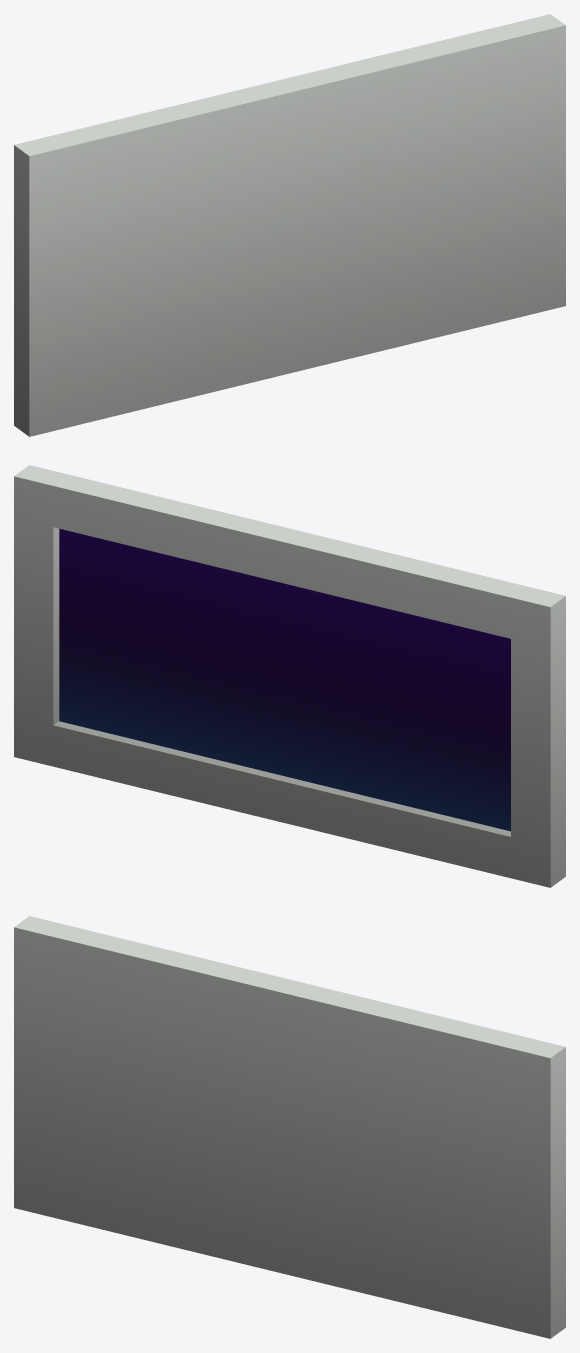
The model's file is Frame_closed.fbx.
The picture shows the model from 3 angles, top to bottom: view 1: azimuth 30°, elevation 25°; view 2: azimuth 150°, elevation 25°; view 3: azimuth 330°, elevation 25°; orthographic projection.
Visible parts, largest first — view 1: Frame_closed; view 2: Frame_closed; view 3: Frame_closed.
Boxes of the visible parts, x1,y1,x2,y2 form: Frame_closed: [14, 14, 565, 436]; Frame_closed: [14, 465, 565, 887]; Frame_closed: [14, 916, 565, 1338].
Size of the model in its own units: 400 by 200 by 20.
